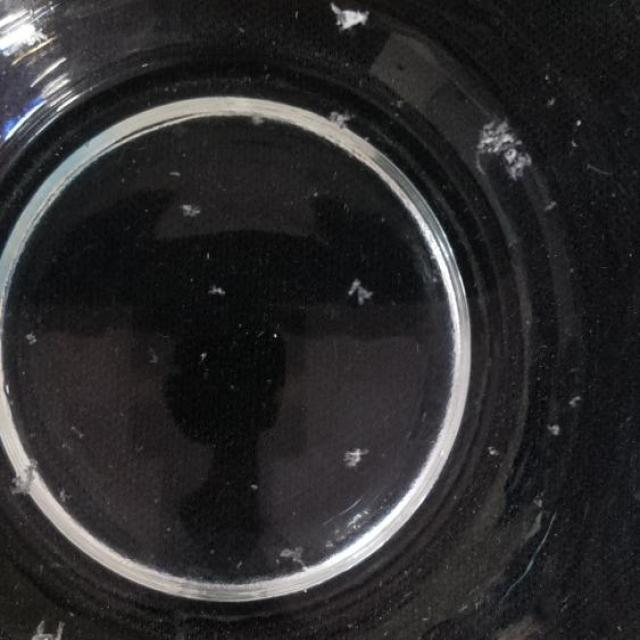fiber: (472, 112, 538, 190), (336, 429, 378, 478), (275, 529, 315, 576), (10, 453, 44, 500), (343, 274, 382, 311), (19, 612, 73, 638), (326, 0, 371, 30), (169, 190, 200, 222), (332, 104, 360, 138), (203, 277, 231, 299)
